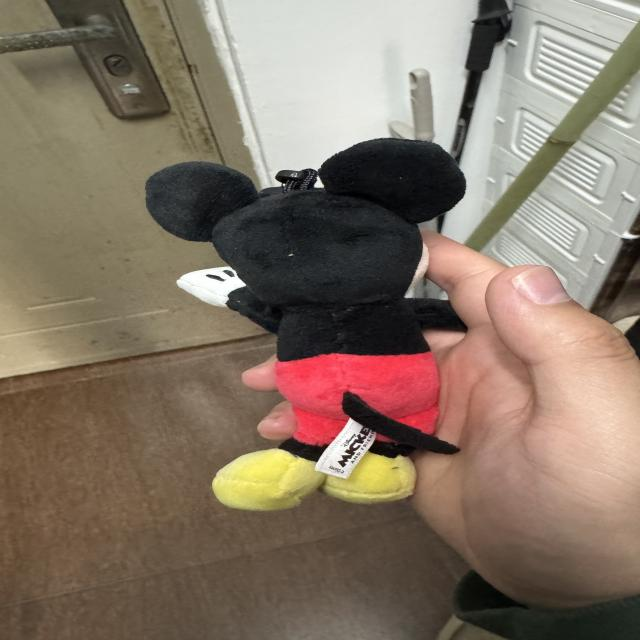mickey: (147, 139, 465, 510)
